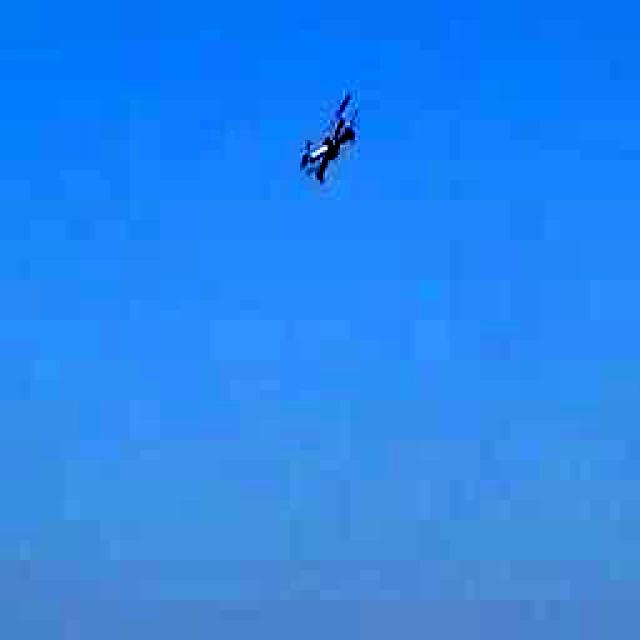bird: (286, 114, 376, 181)
